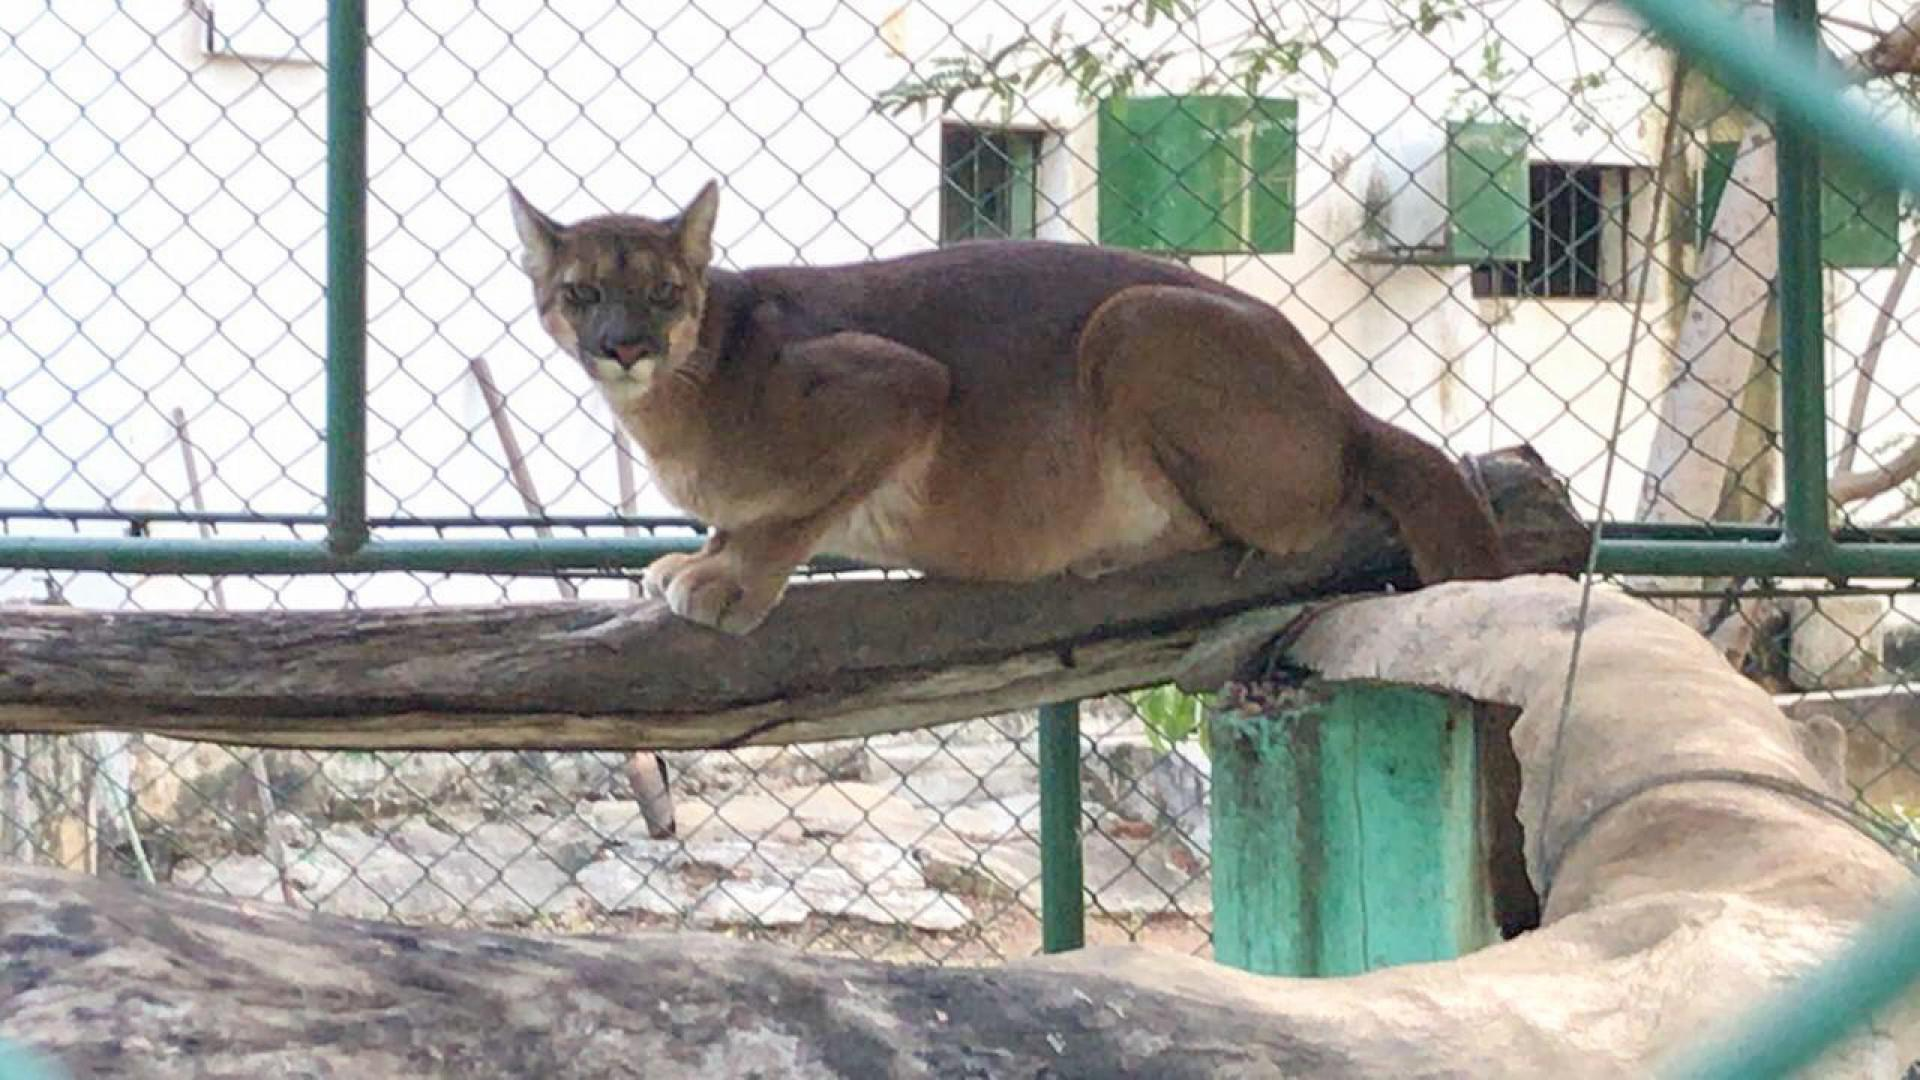OncaParda: (450, 174, 1528, 707)
